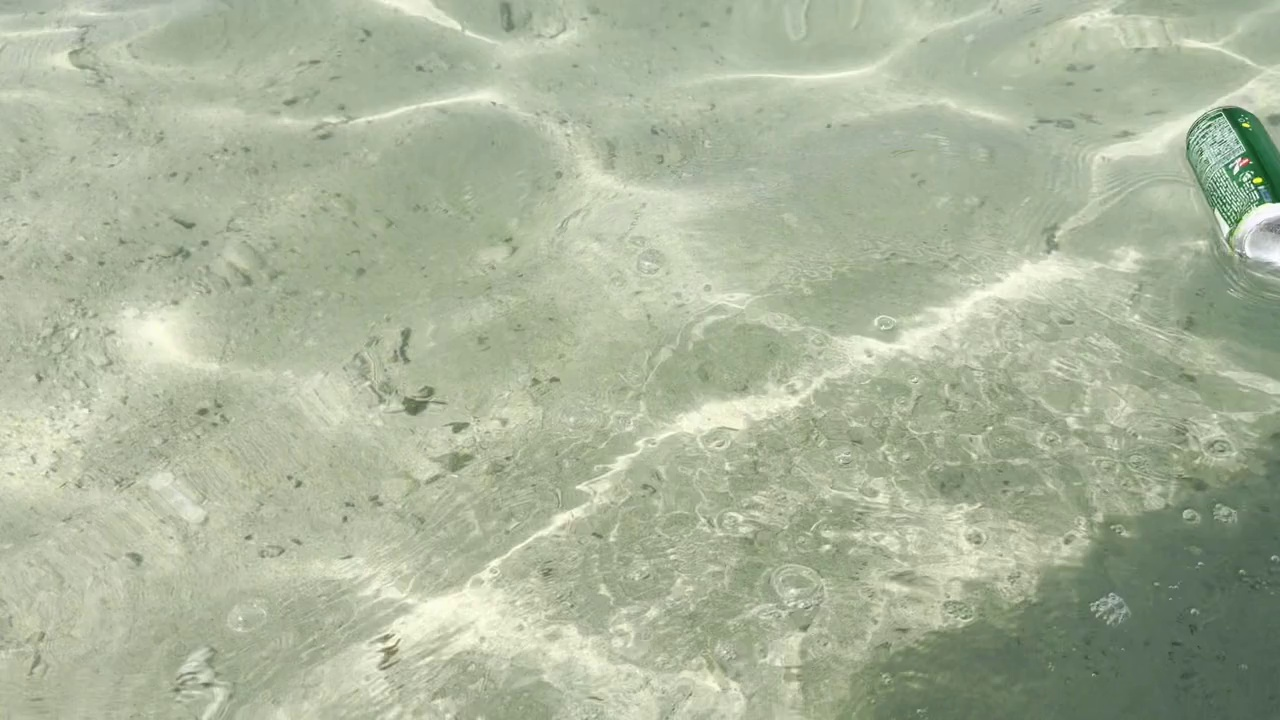debris: (1174, 99, 1280, 283)
